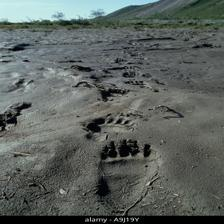bear: (96, 137, 159, 210)
